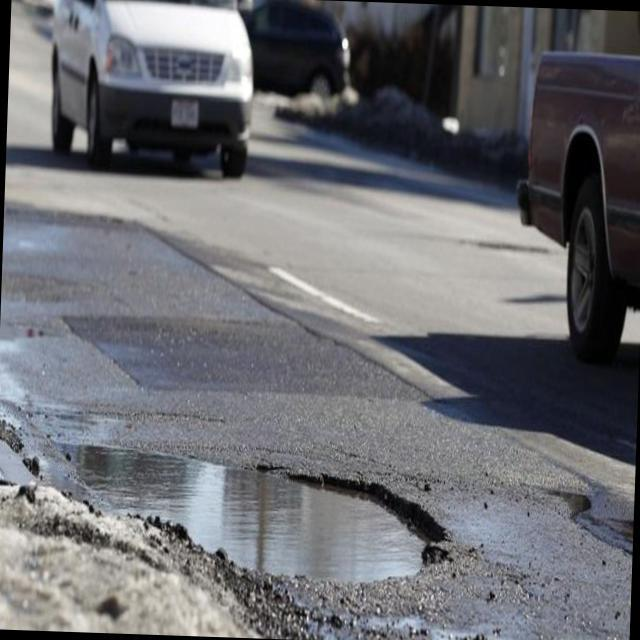Pothole: (148, 438, 466, 592)
